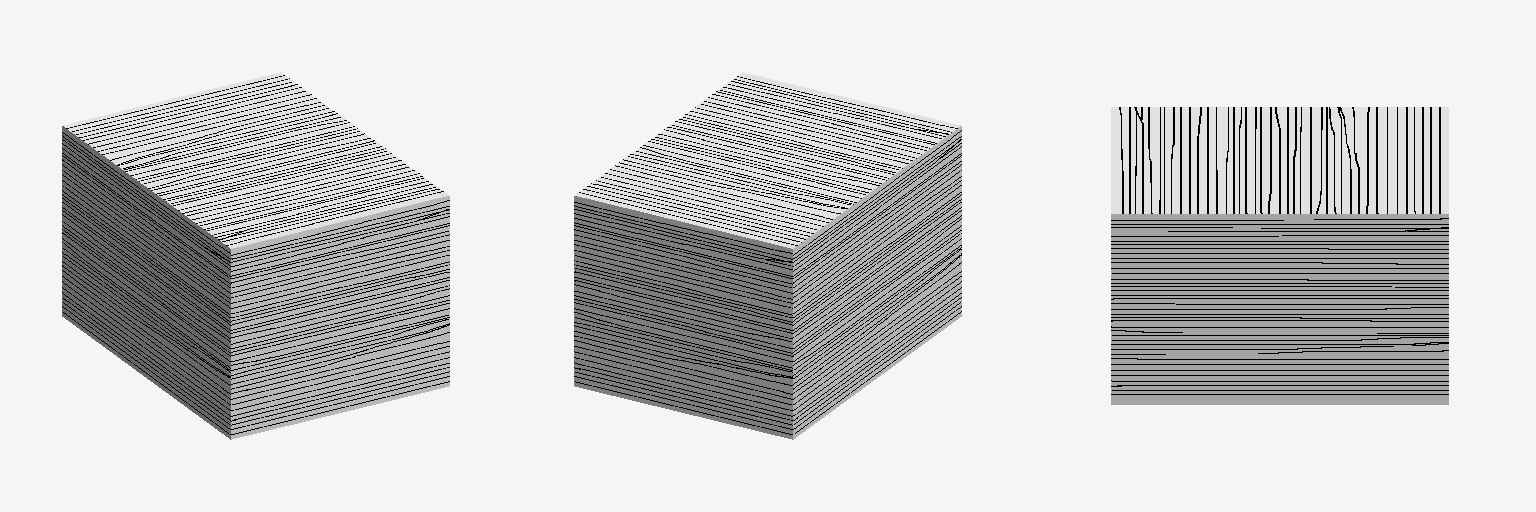
The picture shows the model from 3 angles: view 1: azimuth 30°, elevation 25°; view 2: azimuth 150°, elevation 25°; view 3: azimuth 270°, elevation 25°; orthographic projection.
Visible parts, largest first — view 1: Pile of paper; view 2: Pile of paper; view 3: Pile of paper.
Part boxes in pixels (x1,y1,x2,y2): Pile of paper: (62, 72, 449, 439); Pile of paper: (574, 72, 961, 439); Pile of paper: (1111, 107, 1448, 404).
Size of the model in its own units: 0.6 by 0.5 by 0.8.
1 materials, 1 textured.